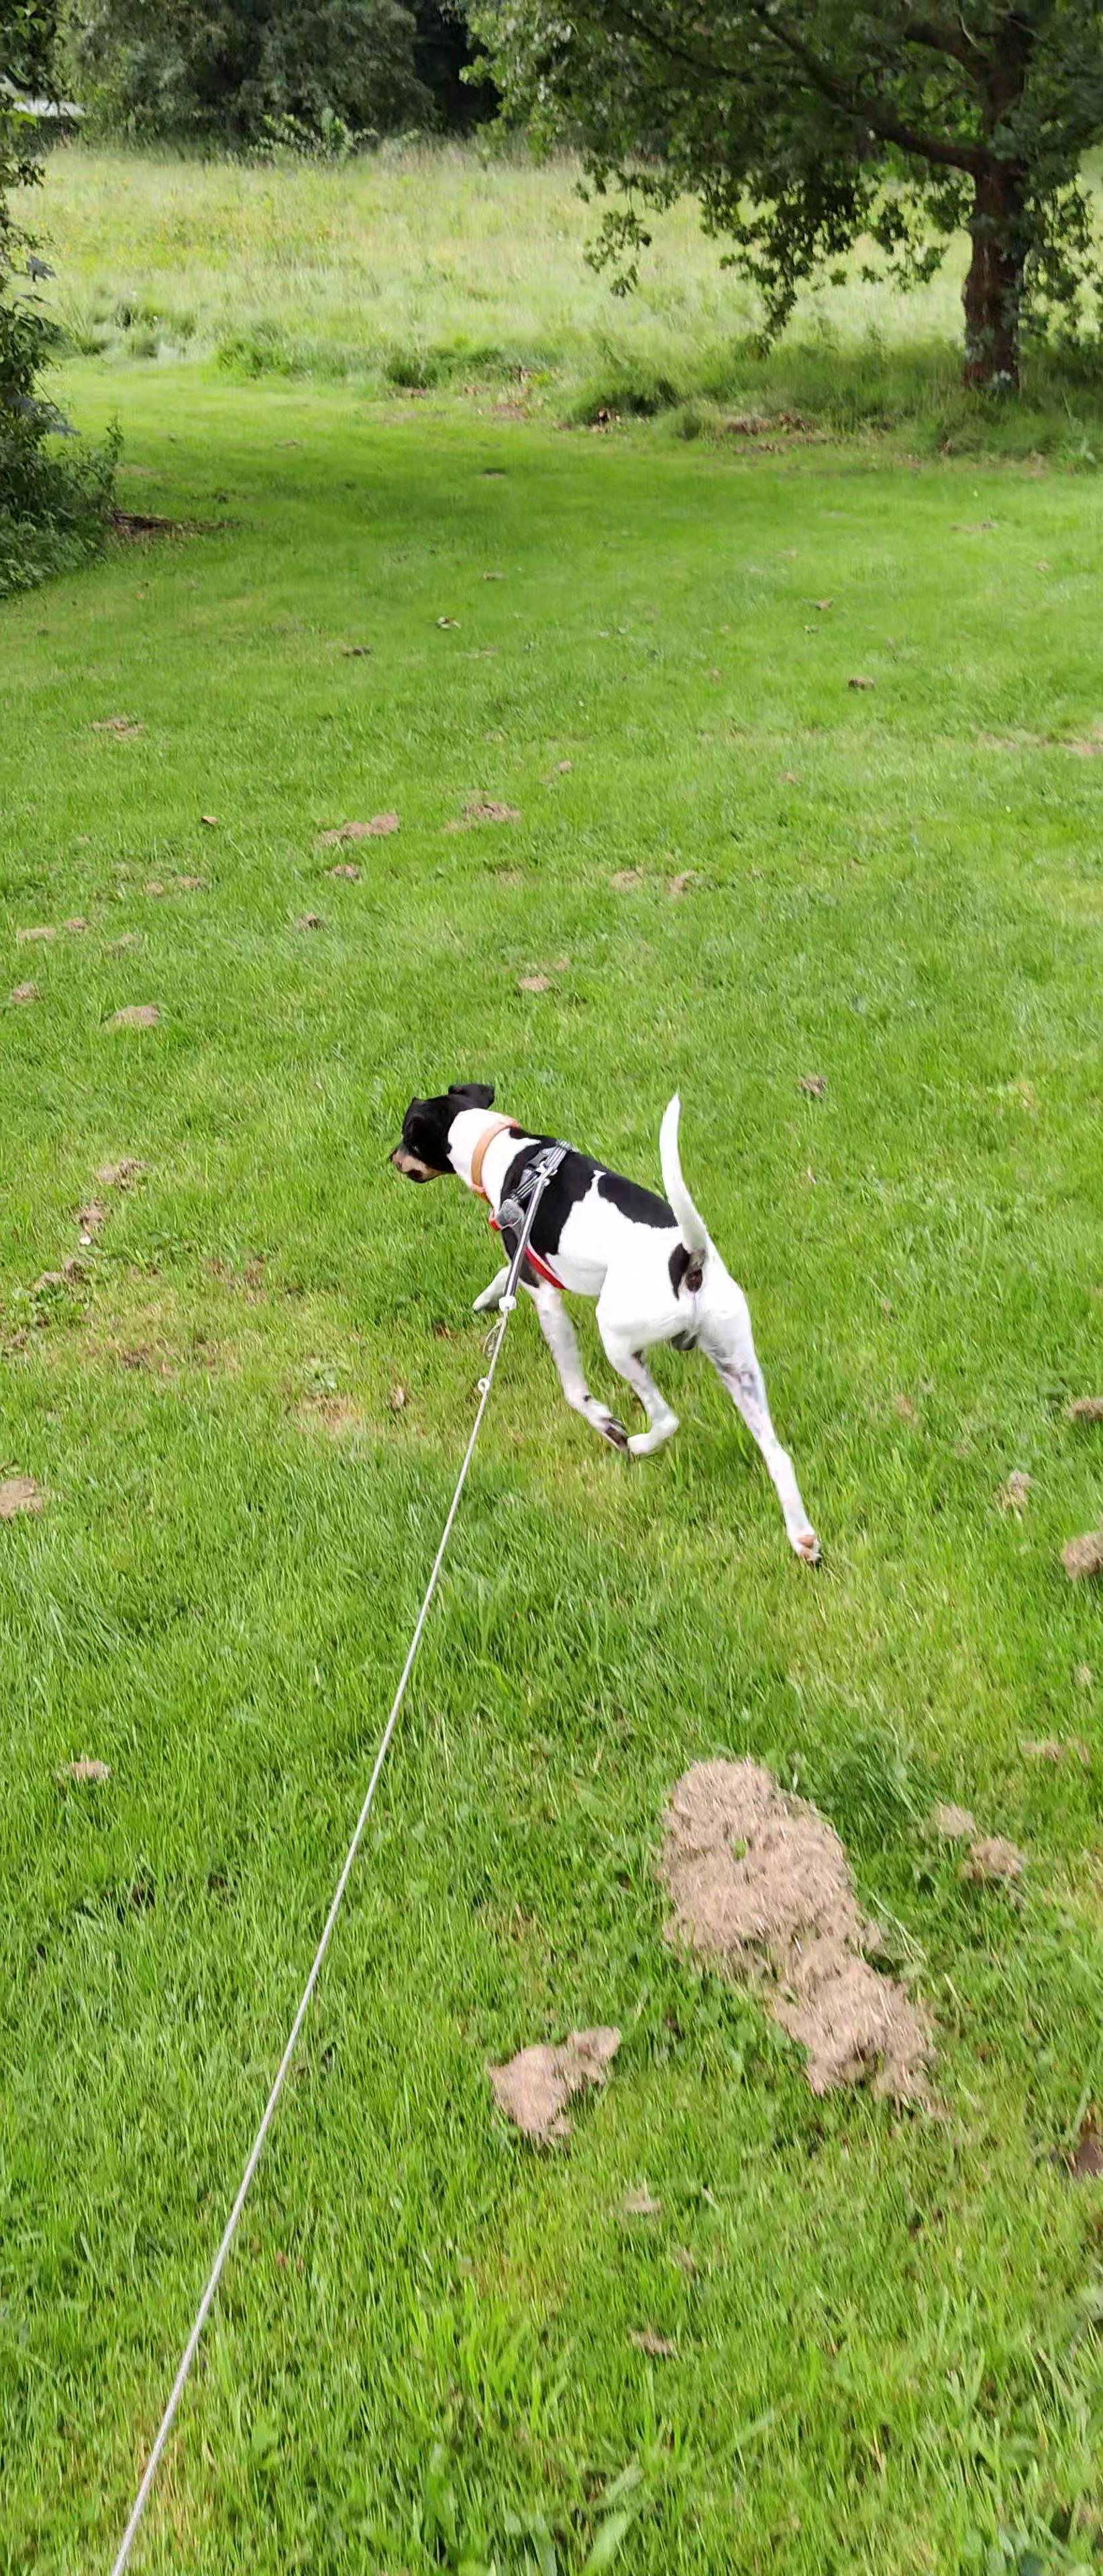Dog: (378, 1076, 830, 1575)
